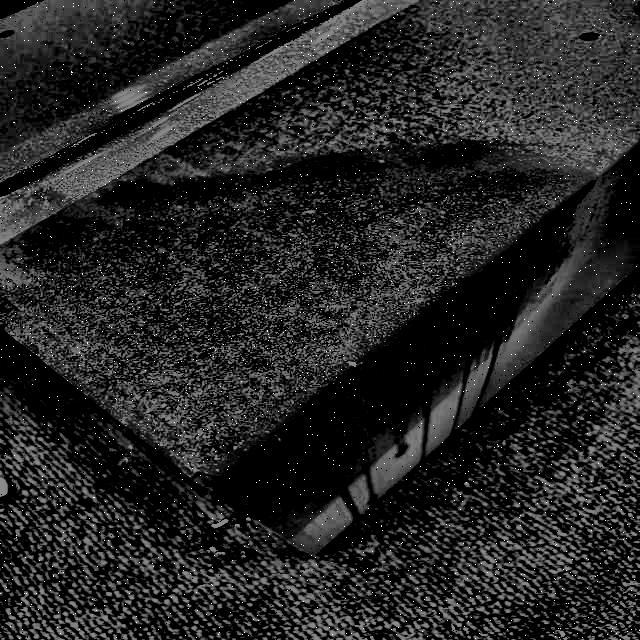box: (1, 0, 640, 569)
wet: (10, 136, 596, 538)
